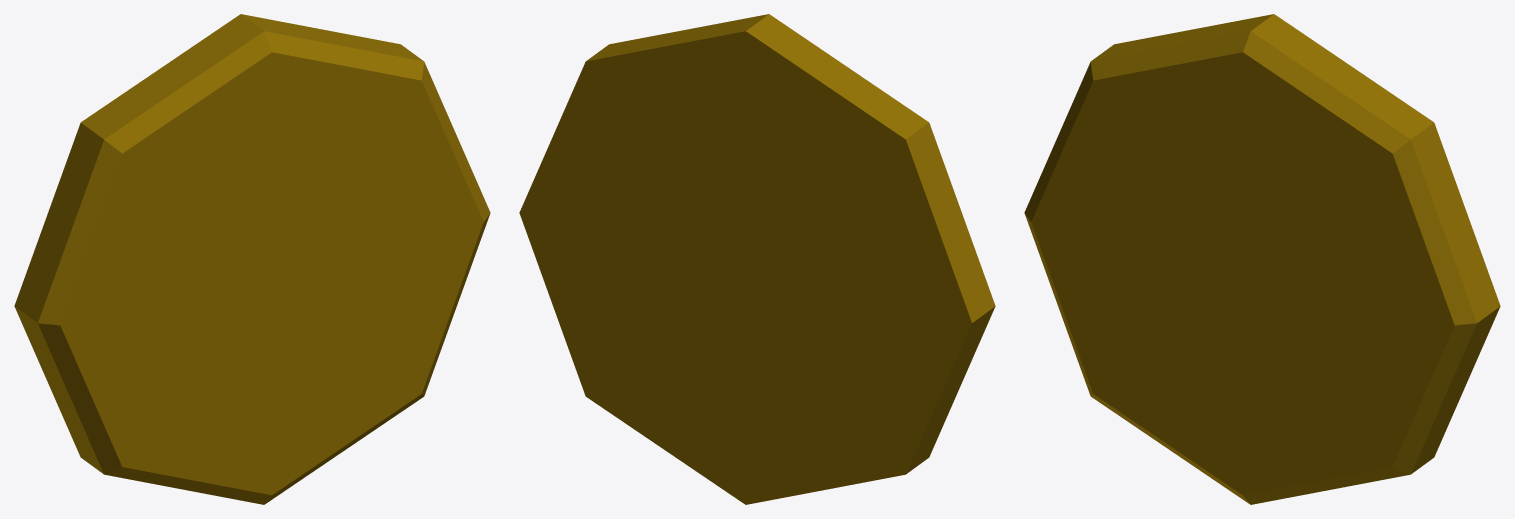
Rendered from Coin.fbx.
The picture shows the model from 3 angles, left to right: view 1: azimuth 30°, elevation 25°; view 2: azimuth 150°, elevation 25°; view 3: azimuth 330°, elevation 25°; orthographic projection.
Parts seen in each view (by area): view 1: pCylinder1; view 2: pCylinder1; view 3: pCylinder1.
Part boxes in pixels (<box>): pCylinder1: <box>14,14,490,504</box>; pCylinder1: <box>519,14,995,504</box>; pCylinder1: <box>1024,14,1500,504</box>.
Size of the model in its own units: 4.86 by 4.86 by 0.5814.
